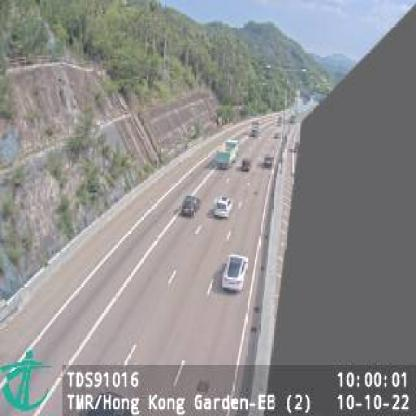Car: (218, 253, 248, 293), (212, 194, 232, 217), (179, 194, 199, 216), (240, 158, 250, 172), (262, 156, 272, 168), (274, 129, 280, 137)
Truck: (218, 139, 237, 170)
